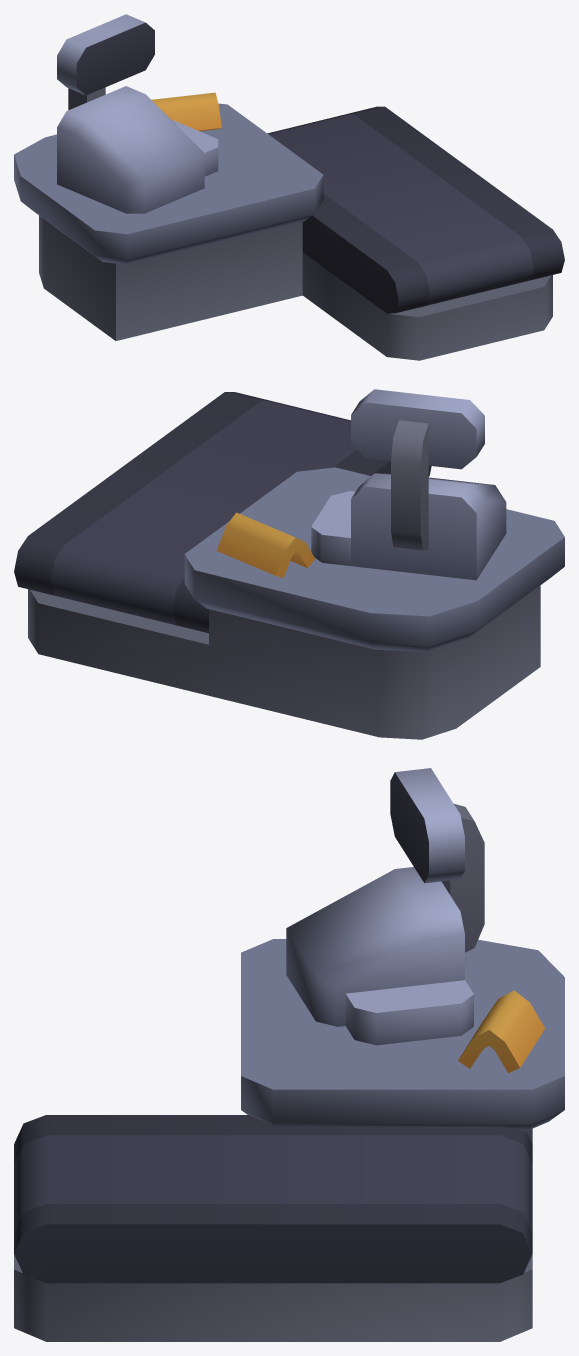
Rendered from register.fbx.
3 renders of one model, top to bottom at view 1: azimuth 30°, elevation 25°; view 2: azimuth 150°, elevation 25°; view 3: azimuth 270°, elevation 25°, orthographic. The views are drawn at different scales.
Visible parts, largest first — view 1: cash-register; view 2: cash-register; view 3: cash-register.
Boxes of the visible parts, x1,y1,x2,y2 form: cash-register: (14, 14, 564, 360); cash-register: (14, 389, 564, 739); cash-register: (14, 768, 564, 1341).
Bounding box in the file's own units: 1 × 0.6563 × 0.9444.
